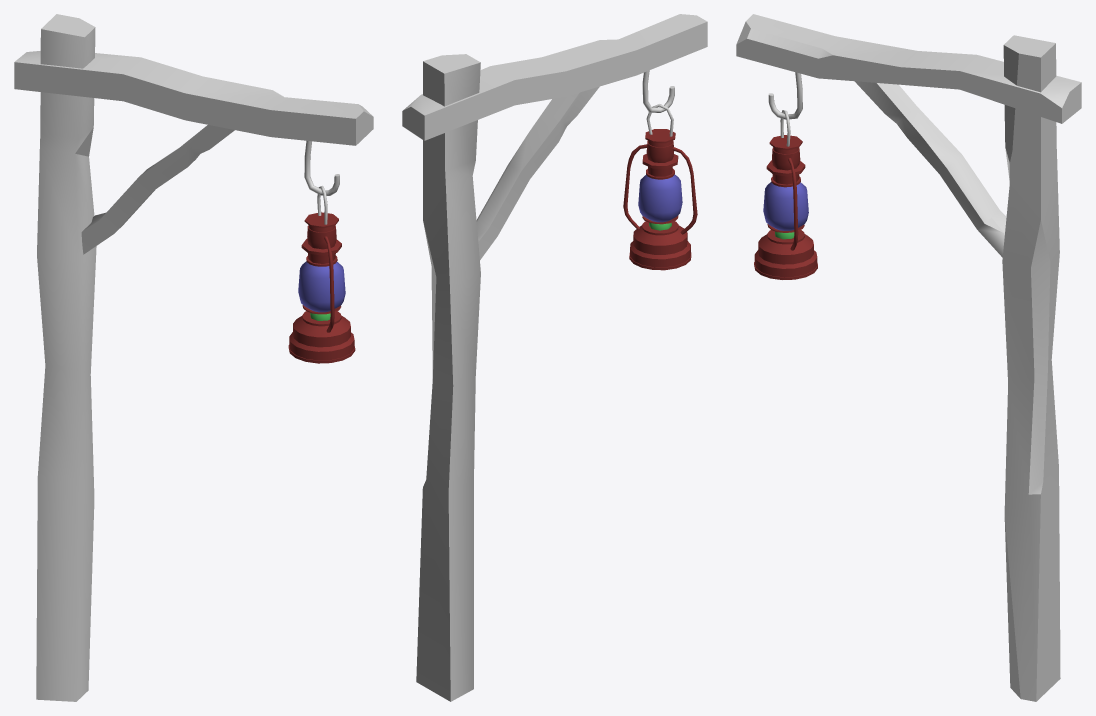
The model's file is Prop_OilLantern_NeleP (1).fbx.
The picture shows the model from 3 angles, left to right: view 1: azimuth 90°, elevation 25°; view 2: azimuth 150°, elevation 25°; view 3: azimuth 270°, elevation 25°; orthographic projection. The views are drawn at different scales.
Visible parts, largest first — view 1: Lantern; view 2: Lantern; view 3: Lantern.
Boxes of the visible parts, x1,y1,x2,y2 form: Lantern: (14,14,373,701); Lantern: (402,14,707,701); Lantern: (736,14,1081,701).
Bounding box in the file's own units: 44.11 × 170 × 83.01.
